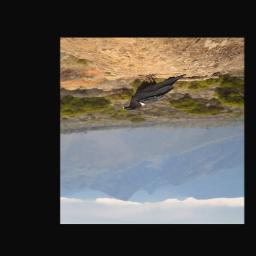Crow: (121, 72, 188, 112)
